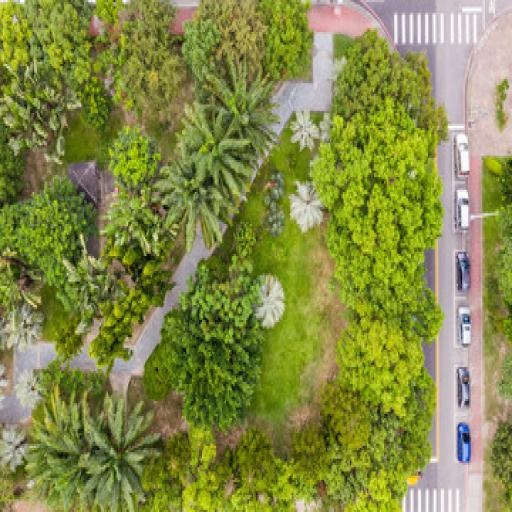tree-top: (313, 109, 439, 319), (164, 277, 263, 427), (81, 394, 164, 512), (108, 3, 184, 116), (8, 177, 91, 276), (341, 320, 424, 416), (0, 80, 80, 166), (32, 390, 89, 506), (208, 68, 277, 158), (338, 35, 415, 114), (184, 105, 244, 192), (166, 149, 222, 240), (25, 5, 87, 87), (69, 244, 126, 322), (261, 11, 316, 86), (208, 0, 262, 72), (324, 380, 376, 446), (175, 11, 225, 78), (147, 429, 193, 500), (112, 184, 157, 254), (104, 131, 160, 185), (319, 445, 368, 503), (336, 473, 408, 512), (267, 454, 311, 512), (126, 253, 168, 311), (186, 461, 233, 511), (96, 309, 134, 369), (0, 0, 30, 75), (76, 76, 112, 138), (284, 420, 330, 467), (368, 412, 402, 474), (48, 314, 87, 368), (238, 418, 272, 479), (252, 273, 289, 329), (0, 253, 31, 318), (489, 422, 512, 507), (403, 418, 430, 482), (290, 187, 328, 230), (0, 424, 34, 470), (288, 106, 317, 159), (189, 428, 225, 468), (235, 218, 257, 259)
